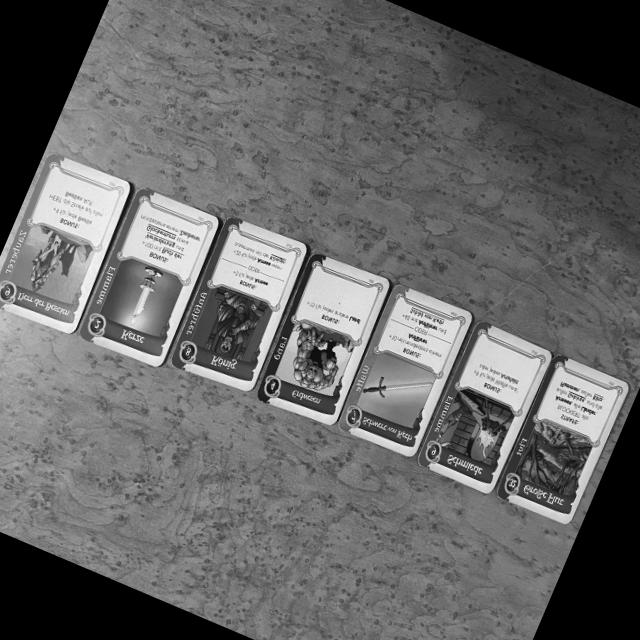Beast Master: (0, 153, 133, 336)
Candle: (76, 185, 220, 372)
Earth Elemental: (253, 250, 391, 427)
Forge: (413, 318, 553, 496)
Great Flood: (493, 349, 634, 531)
King: (166, 214, 306, 393)
Sword of Keth: (339, 278, 476, 461)
